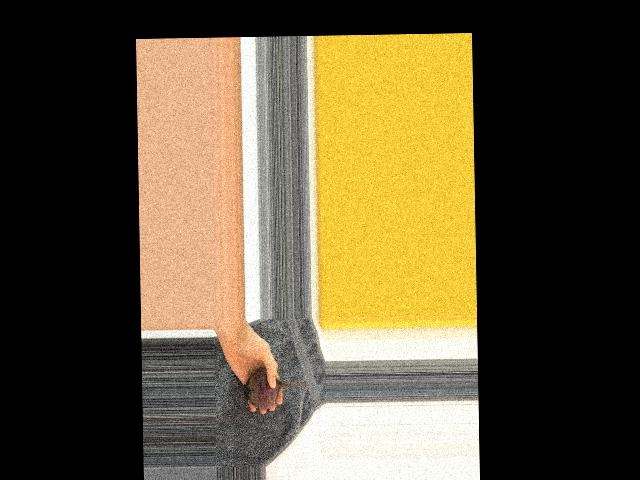beet: (242, 368, 310, 410)
